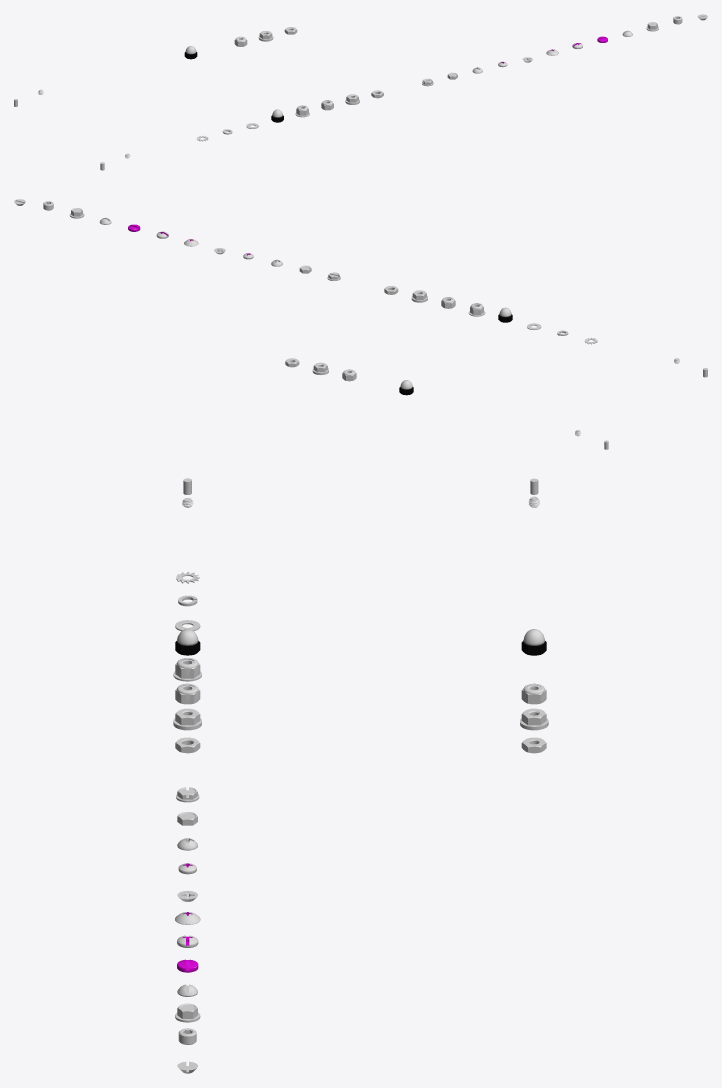
The model's file is Hardware 10-gauge.fbx.
3 views of the same model, one above another, from view 1: azimuth 30°, elevation 25°; view 2: azimuth 150°, elevation 25°; view 3: azimuth 270°, elevation 25° (orthographic). The views are drawn at different scales.
Bounding box in the file's own units: 61.6 × 1.67 × 16.51.
